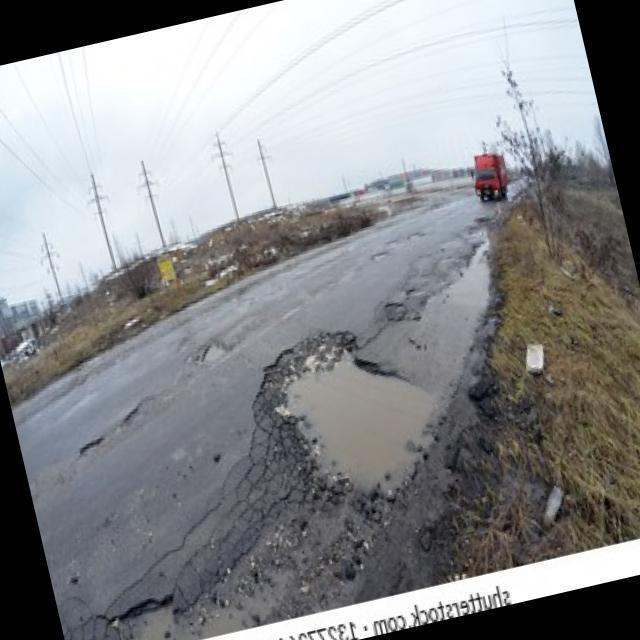pothole: (249, 315, 458, 530), (121, 394, 161, 427), (197, 337, 232, 367), (77, 430, 110, 459), (404, 284, 426, 300), (383, 236, 404, 252), (409, 228, 429, 241), (386, 299, 405, 312), (372, 251, 390, 262)
